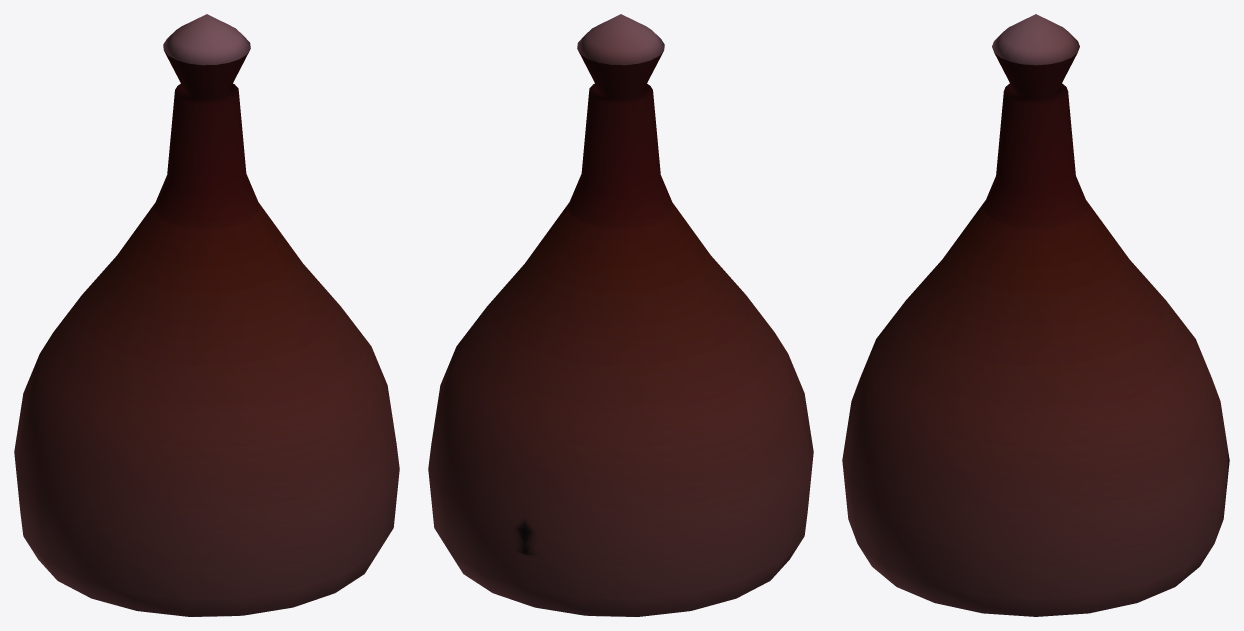
File: potion4.fbx
3 renders of one model, left to right at view 1: azimuth 30°, elevation 25°; view 2: azimuth 150°, elevation 25°; view 3: azimuth 270°, elevation 25°, orthographic.
Visible parts, largest first — view 1: pCylinder1; view 2: pCylinder1; view 3: pCylinder1.
Boxes of the visible parts, box(x1,y1,x2,y2) form: pCylinder1: box(14, 14, 399, 616); pCylinder1: box(428, 14, 813, 616); pCylinder1: box(842, 14, 1229, 616).
Bounding box in the file's own units: 2.35 × 3.78 × 2.35.
